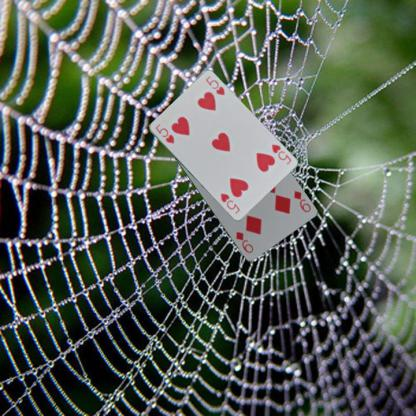5h: (152, 121, 176, 145), (269, 141, 292, 166)
9d: (291, 187, 312, 214)
